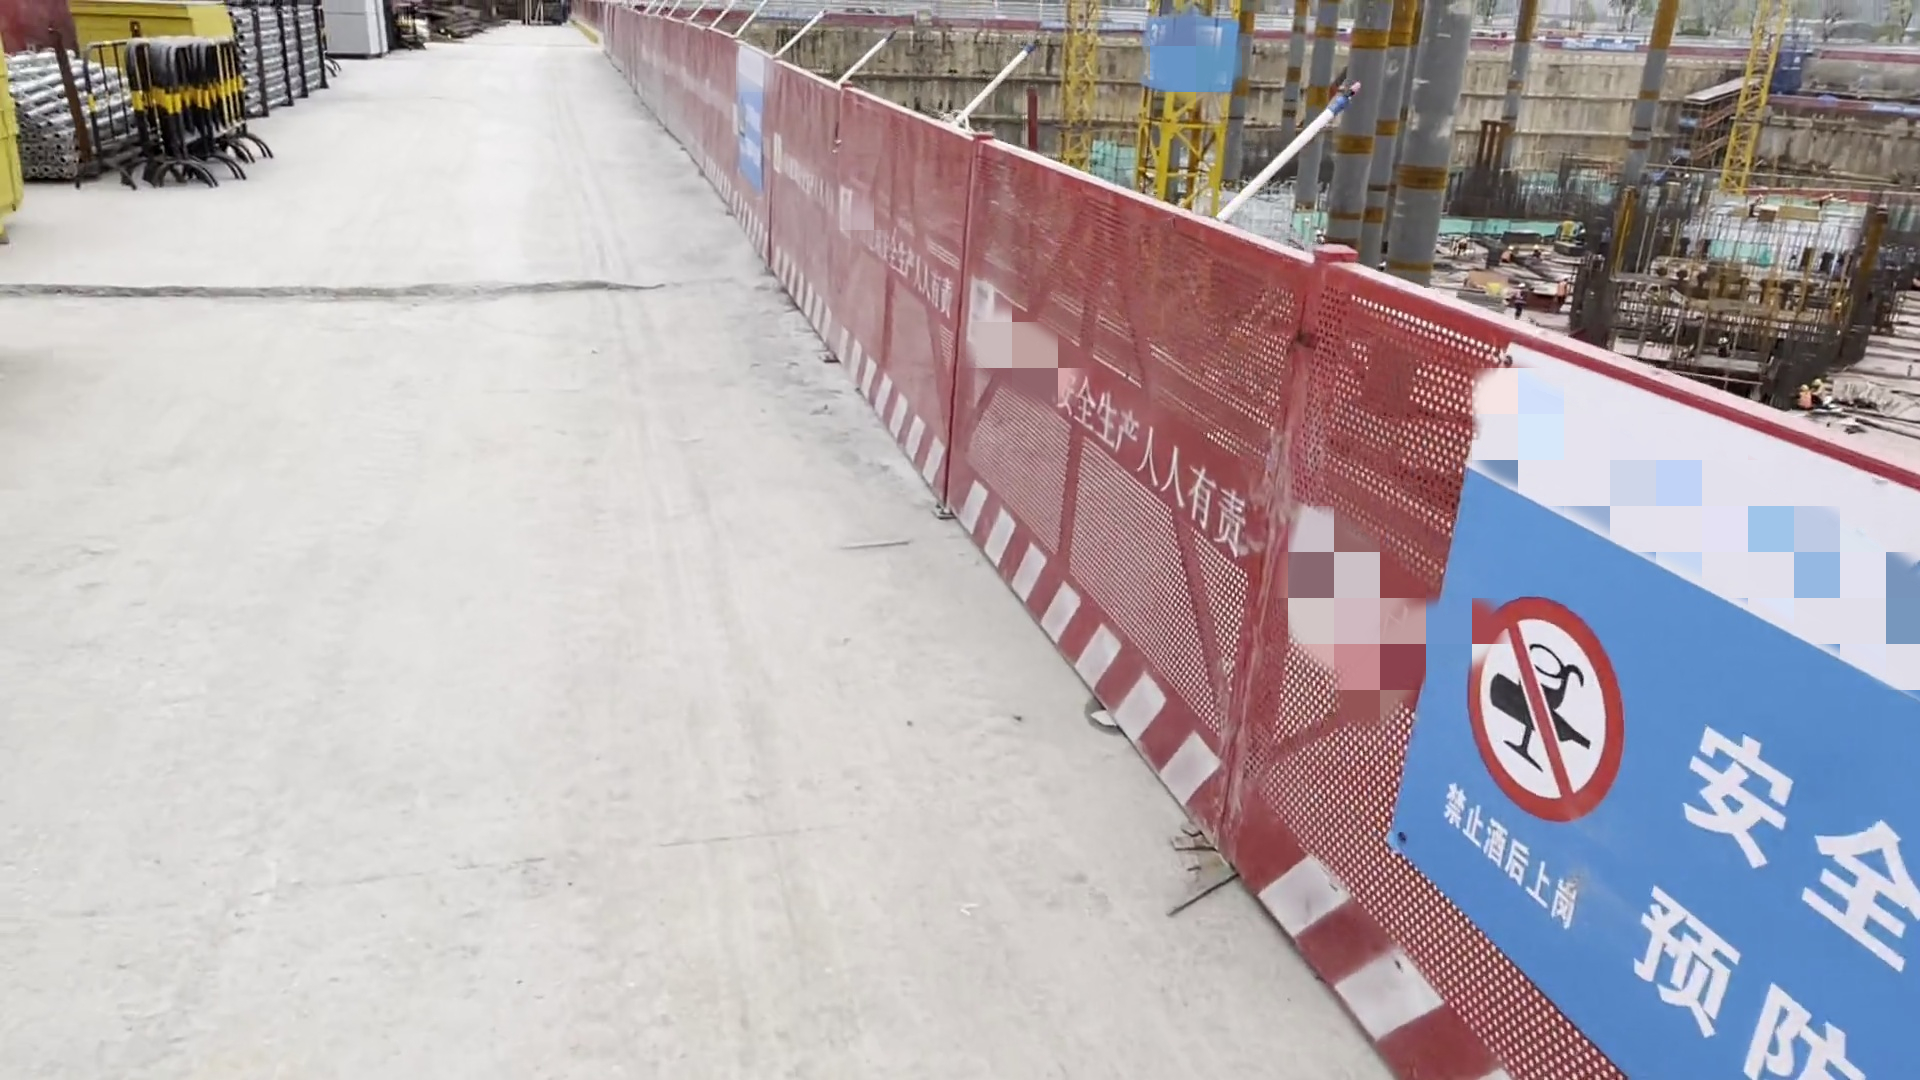fence: (584, 9, 1402, 1054)
slogan: (1419, 318, 1905, 1072)
